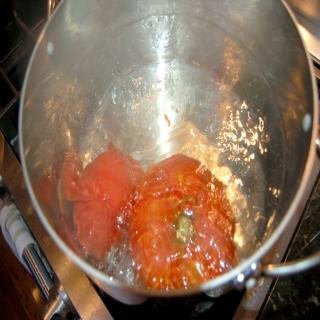tomato: (129, 151, 236, 291)
